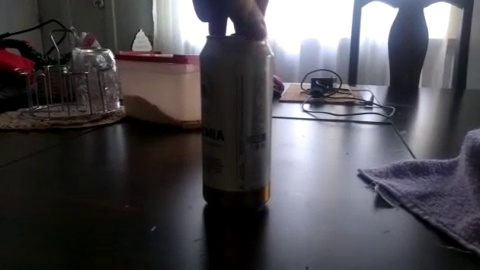bohemia: (184, 29, 288, 220)
